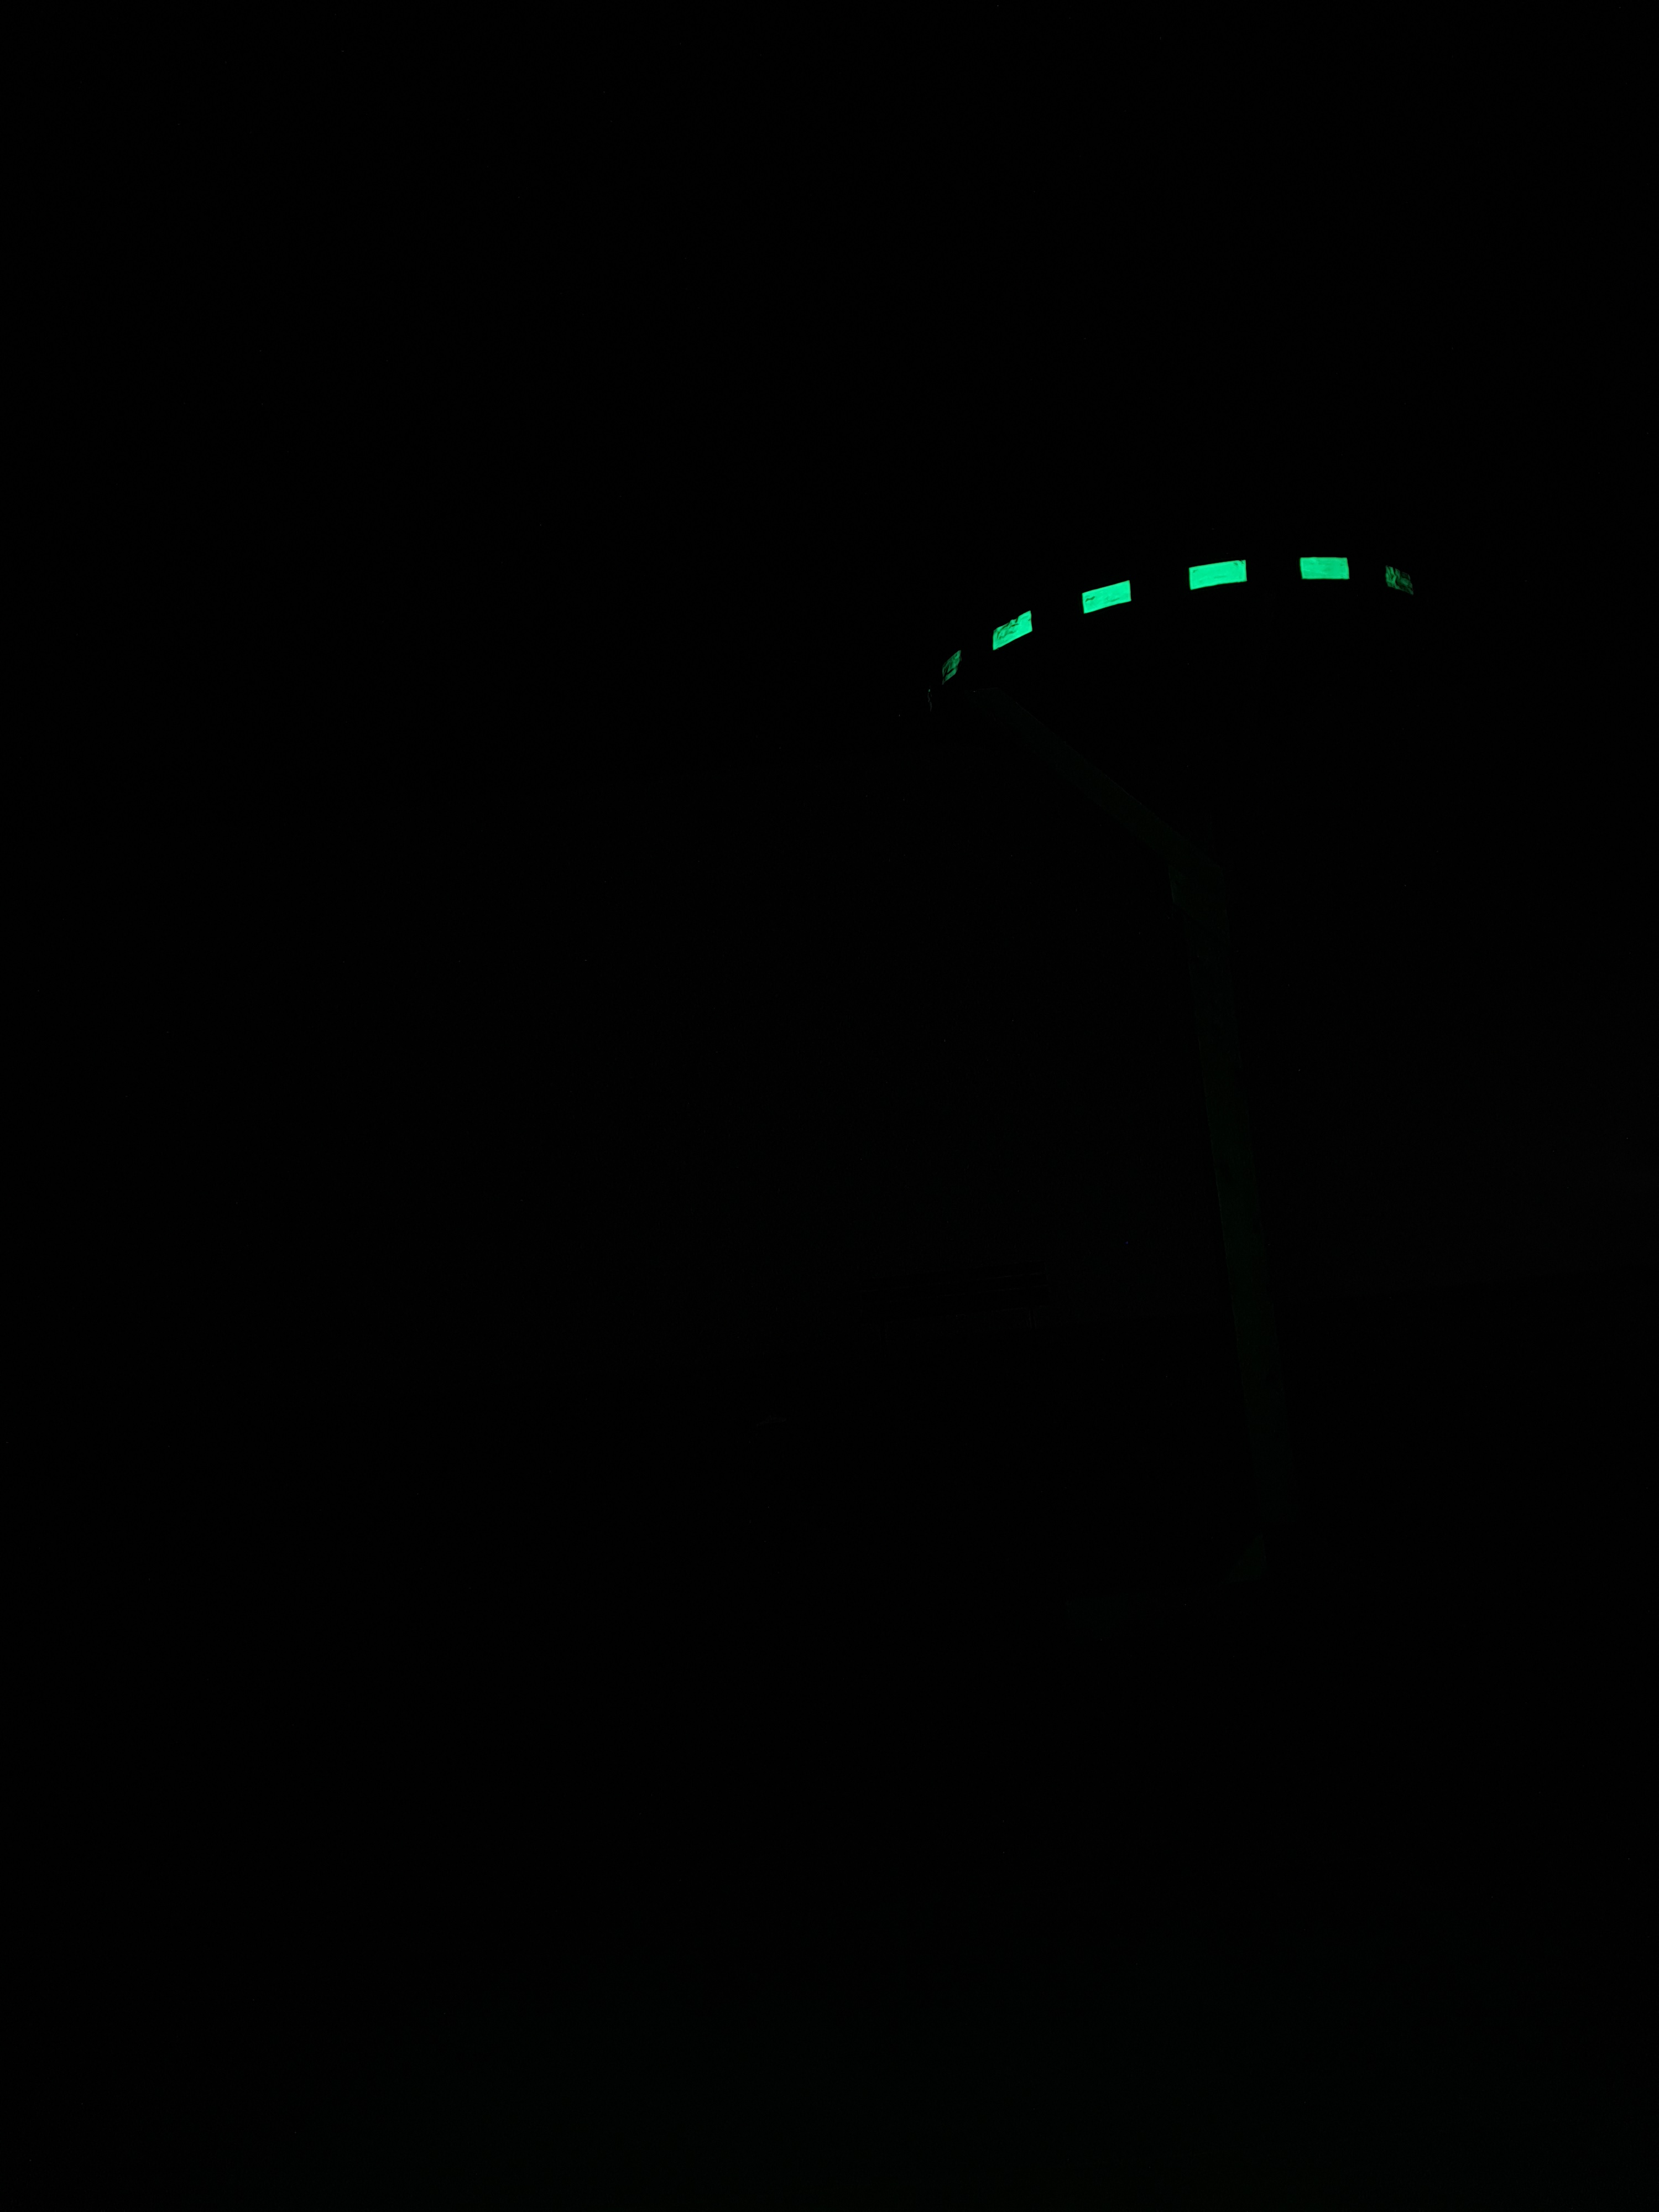hoop: (924, 526, 1467, 730)
